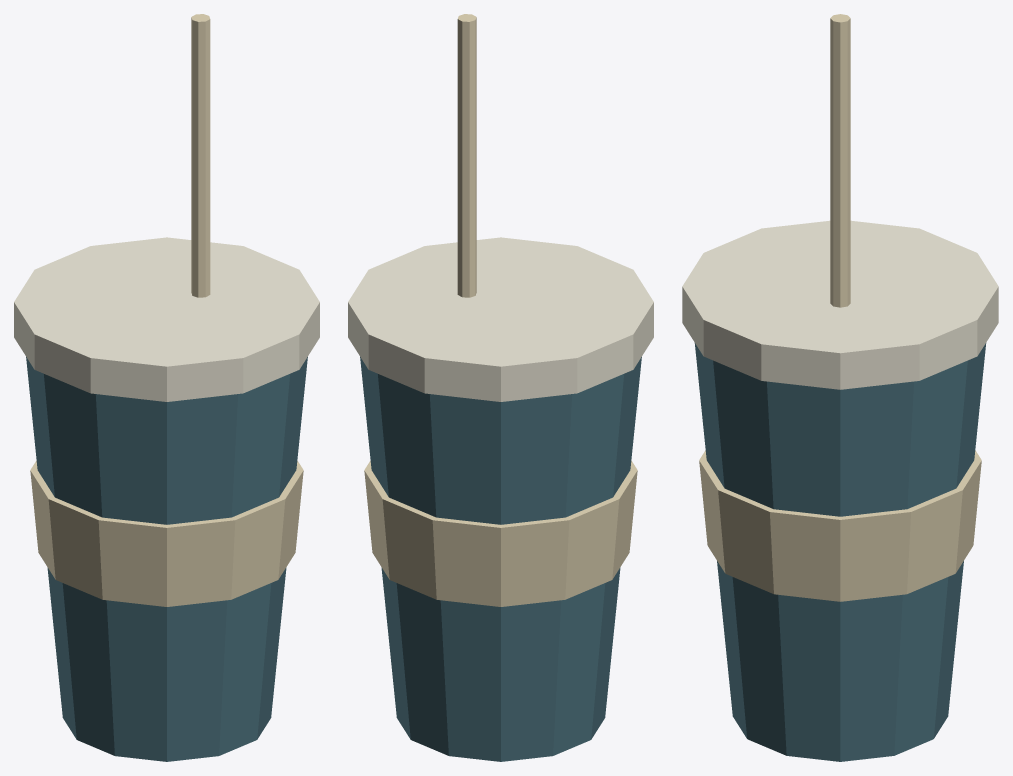
Rendered from Drink_Water.glb.
3 views of the same model, side by side, from view 1: azimuth 30°, elevation 25°; view 2: azimuth 150°, elevation 25°; view 3: azimuth 270°, elevation 25° (orthographic). The views are drawn at different scales.
Visible parts, largest first — view 1: Drink_Water; view 2: Drink_Water; view 3: Drink_Water.
Part boxes in pixels (left/top/right/bottom): Drink_Water: left=14, top=14, right=319, bottom=761; Drink_Water: left=348, top=14, right=653, bottom=761; Drink_Water: left=682, top=14, right=998, bottom=761.
Size of the model in its own units: 0.094 by 0.2345 by 0.094.
